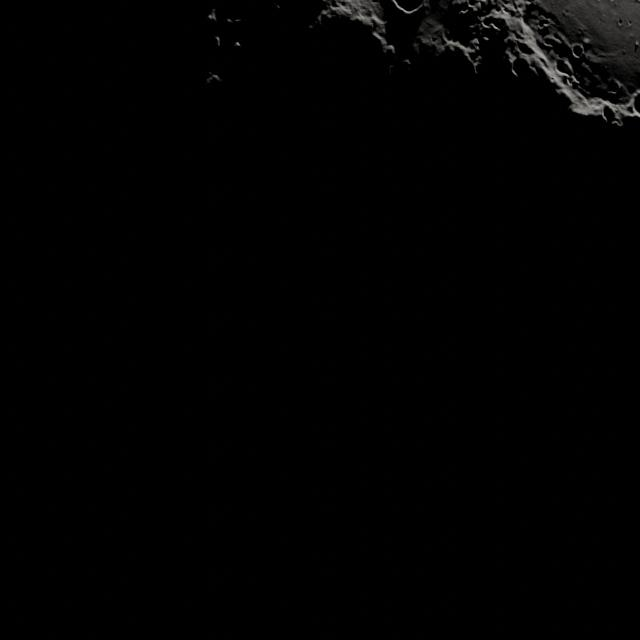rock: (544, 33, 566, 51), (516, 40, 538, 56), (484, 16, 505, 32), (504, 48, 520, 69), (508, 59, 524, 78), (602, 104, 618, 123), (470, 57, 482, 74), (468, 36, 481, 50), (382, 43, 396, 55), (608, 80, 620, 93), (632, 69, 640, 88), (625, 83, 637, 95), (539, 24, 552, 35), (571, 48, 583, 59), (582, 40, 594, 51), (456, 5, 469, 15), (436, 35, 447, 46), (575, 28, 587, 38), (634, 94, 640, 112), (616, 86, 626, 96), (564, 76, 574, 86), (402, 58, 412, 68), (569, 78, 580, 87), (581, 37, 591, 45), (213, 36, 220, 46)
